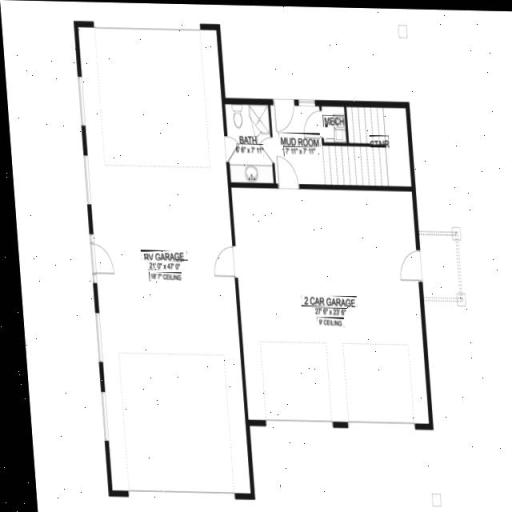bathroom: (225, 111, 400, 182)
garage: (83, 22, 222, 488), (226, 194, 436, 430)
